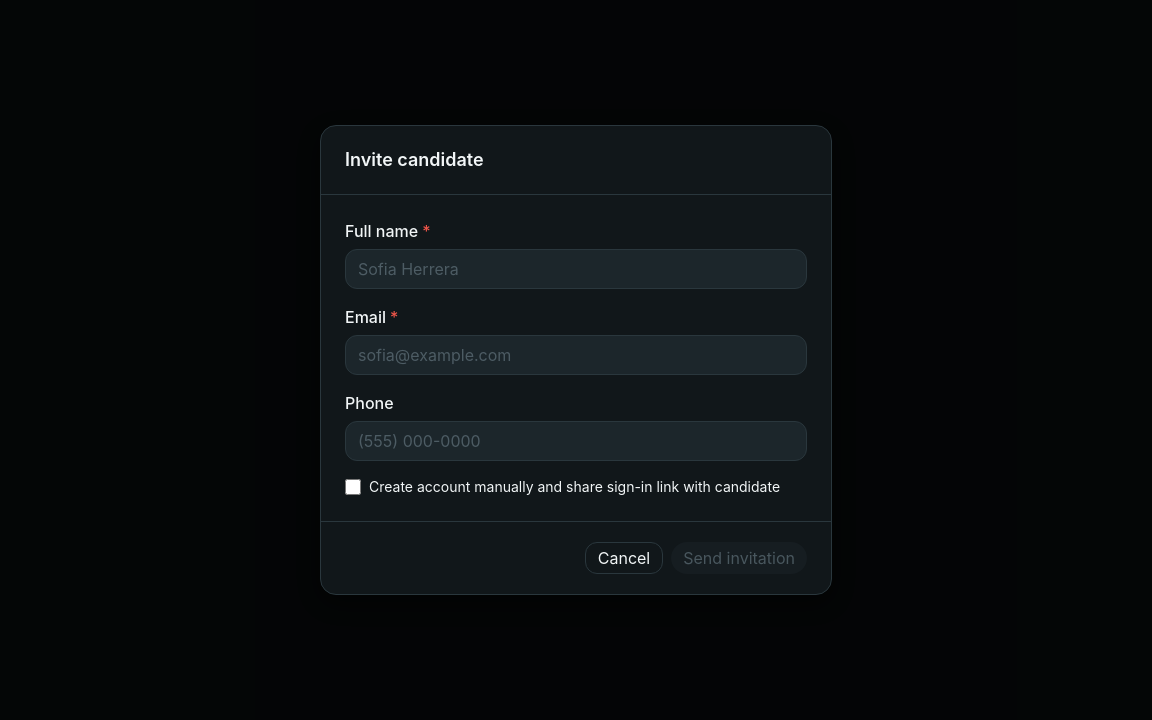
Scenario: InviteCandidateModal › shows a phone error when phone has too few digits
The image size is (1152, 720).
Type "5551234" into the field with test id "candidate-phone-input". click: (576, 441)
box: [345,421,807,461]
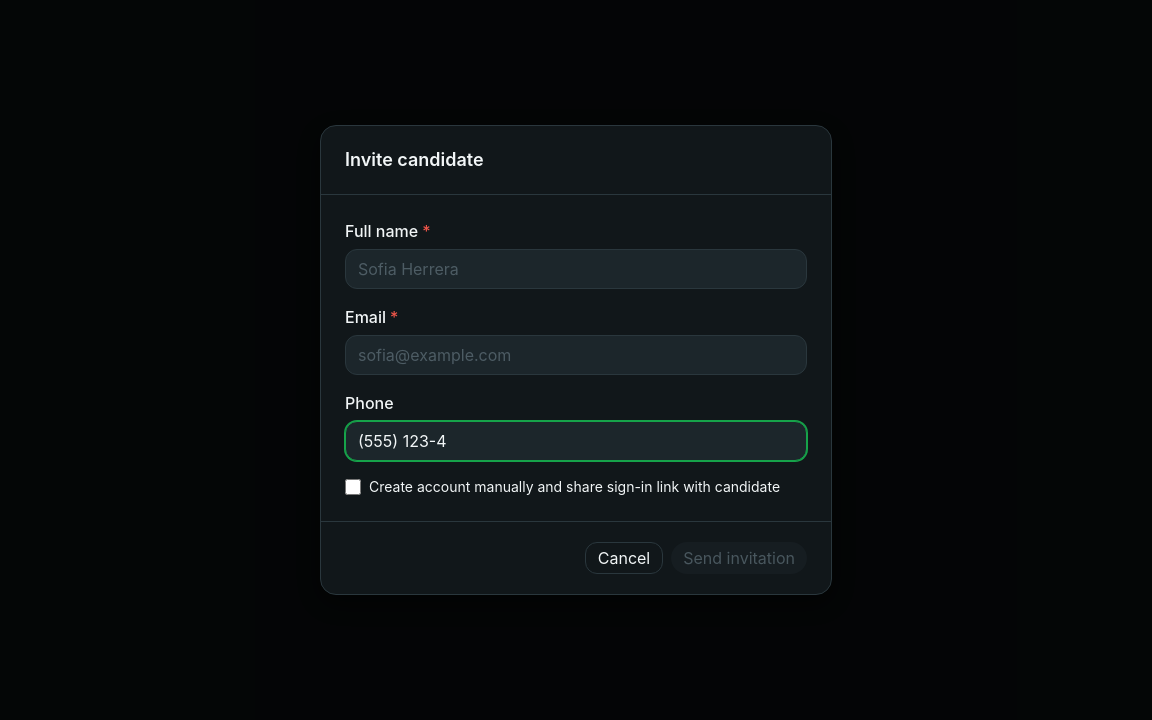
Press Tab
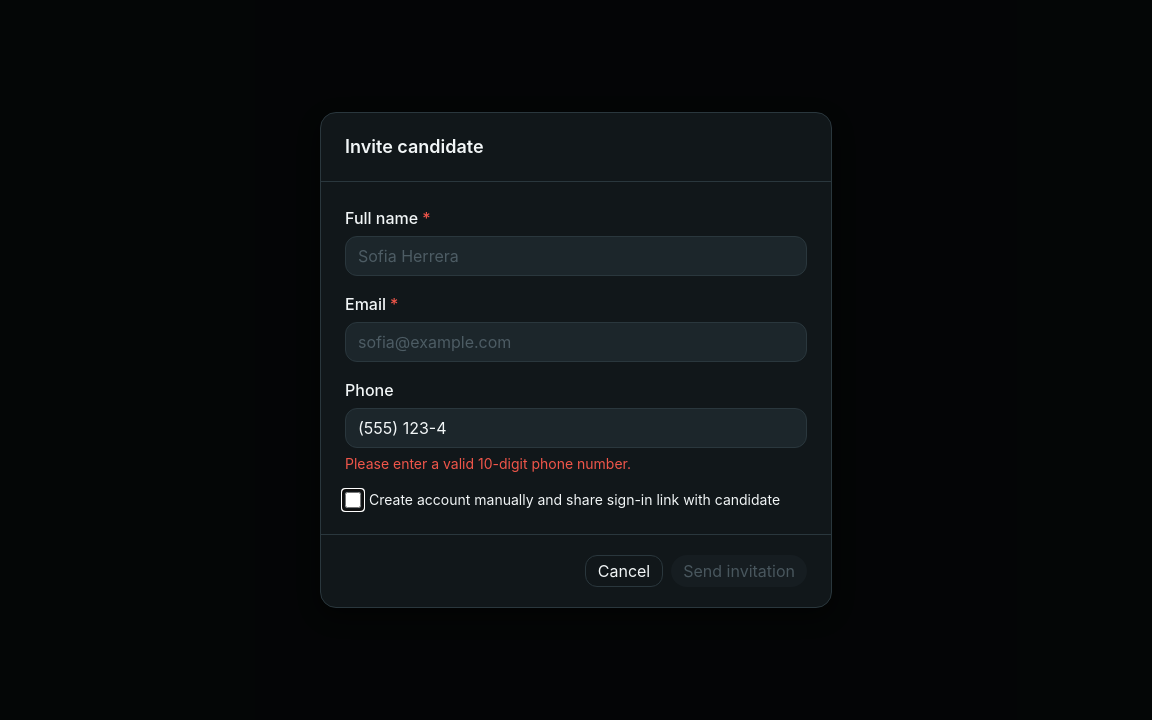
Result: the text "Please enter a valid 10-digit phone number." is shown at [345,455,631,472]
